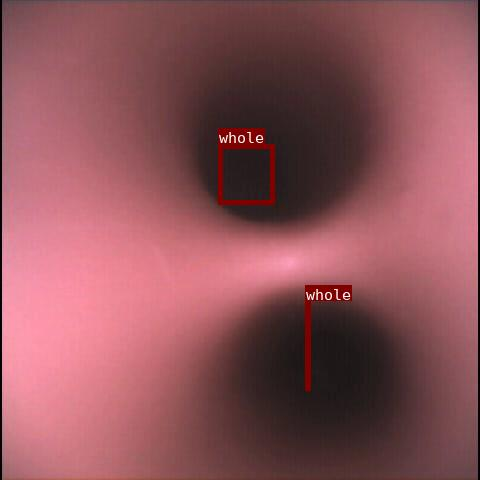whole: (218, 144, 274, 204), (305, 301, 310, 390)
